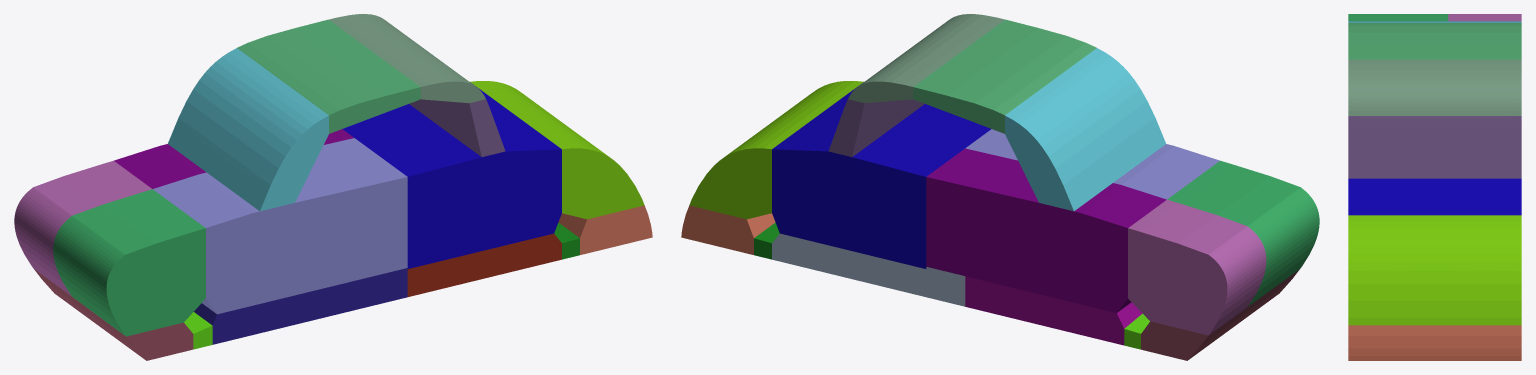
The model's file is 1_canonical.obj.
3 renders of one model, left to right at view 1: azimuth 30°, elevation 25°; view 2: azimuth 150°, elevation 25°; view 3: azimuth 270°, elevation 25°, orthographic. The views are drawn at different scales.
Parts seen in each view (by area): view 1: geometry_12, geometry_5, geometry_10, geometry_2, geometry_3, geometry_4, geometry_7, geometry_18, geometry_0, geometry_15, geometry_1, geometry_9 (+4 smaller); view 2: geometry_11, geometry_5, geometry_2, geometry_7, geometry_3, geometry_10, geometry_4, geometry_6, geometry_14, geometry_0, geometry_12, geometry_1 (+4 smaller); view 3: geometry_4, geometry_1, geometry_0, geometry_5, geometry_3, geometry_9, geometry_10, geometry_7, geometry_2.
Part boxes in pixels (x1=…): geometry_12: x1=153, y1=138, x2=407, y2=314; geometry_5: x1=343, y1=82, x2=561, y2=268; geometry_10: x1=53, y1=189, x2=205, y2=336; geometry_2: x1=168, y1=48, x2=328, y2=211; geometry_3: x1=237, y1=19, x2=420, y2=133; geometry_4: x1=470, y1=81, x2=644, y2=219; geometry_7: x1=14, y1=160, x2=152, y2=295; geometry_18: x1=194, y1=268, x2=407, y2=344; geometry_0: x1=329, y1=14, x2=485, y2=103; geometry_15: x1=407, y1=233, x2=561, y2=296; geometry_1: x1=409, y1=99, x2=505, y2=156; geometry_9: x1=558, y1=205, x2=652, y2=254; geometry_11: x1=926, y1=148, x2=1166, y2=312; geometry_5: x1=772, y1=82, x2=990, y2=268; geometry_2: x1=1005, y1=48, x2=1165, y2=211; geometry_7: x1=1128, y1=199, x2=1266, y2=335; geometry_3: x1=913, y1=19, x2=1096, y2=133; geometry_10: x1=1167, y1=160, x2=1319, y2=306; geometry_4: x1=689, y1=81, x2=863, y2=219; geometry_6: x1=772, y1=233, x2=965, y2=306; geometry_14: x1=965, y1=276, x2=1142, y2=345; geometry_0: x1=848, y1=14, x2=1004, y2=103; geometry_12: x1=965, y1=129, x2=1219, y2=199; geometry_1: x1=828, y1=99, x2=924, y2=156; geometry_4: x1=1348, y1=215, x2=1521, y2=325; geometry_1: x1=1348, y1=116, x2=1521, y2=178; geometry_0: x1=1348, y1=59, x2=1521, y2=115; geometry_5: x1=1348, y1=178, x2=1521, y2=215; geometry_3: x1=1348, y1=23, x2=1521, y2=59; geometry_9: x1=1348, y1=325, x2=1521, y2=360; geometry_10: x1=1348, y1=14, x2=1448, y2=21; geometry_7: x1=1448, y1=14, x2=1521, y2=21; geometry_2: x1=1348, y1=21, x2=1521, y2=22.
Size of the model in its own units: 0.171 by 0.0619 by 0.05.
